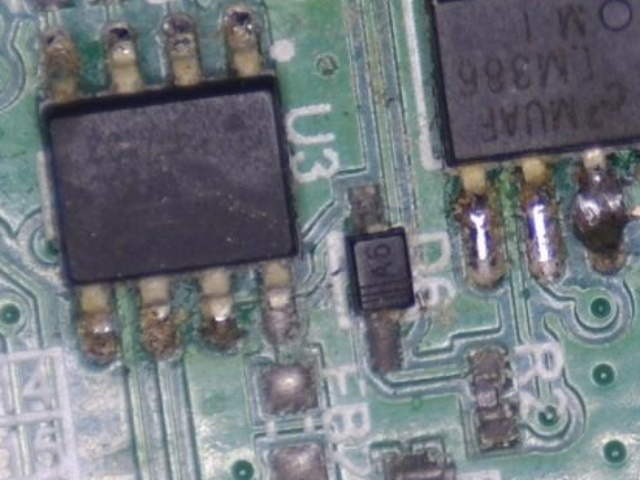pcb_defect: (384, 450, 462, 480)
